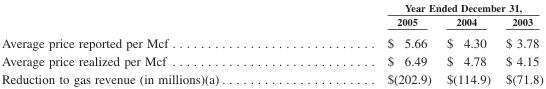table: (0, 1, 542, 85)
table column: (0, 1, 305, 85), (305, 1, 438, 85), (438, 1, 497, 85), (497, 1, 542, 85)
table column header: (0, 1, 542, 31)
table row: (0, 31, 542, 51), (0, 51, 542, 69), (0, 14, 542, 31), (0, 69, 542, 85), (0, 1, 542, 14)
table spanning cell: (305, 1, 542, 14)
